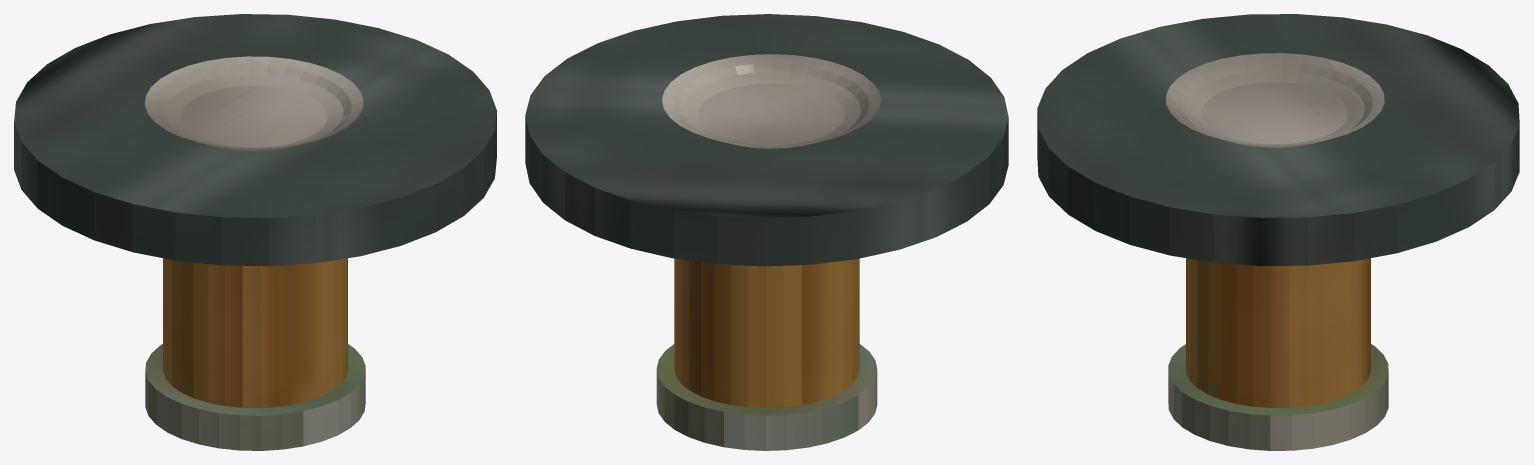
Rendered from mesinha.fbx.
3 views of the same model, side by side, from view 1: azimuth 30°, elevation 25°; view 2: azimuth 150°, elevation 25°; view 3: azimuth 270°, elevation 25° (orthographic).
Visible parts, largest first — view 1: mesa1; view 2: mesa1; view 3: mesa1.
Part boxes in pixels (x1,y1,x2,y2): mesa1: [14, 14, 496, 450]; mesa1: [525, 14, 1008, 450]; mesa1: [1037, 14, 1519, 450].
Size of the model in its own units: 133 by 92.22 by 133.
1 material, 1 textured.
